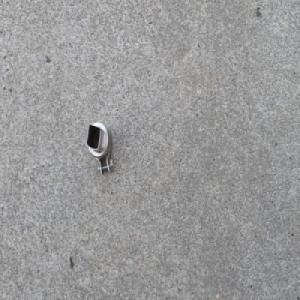MetalPart: (84, 121, 115, 178)
